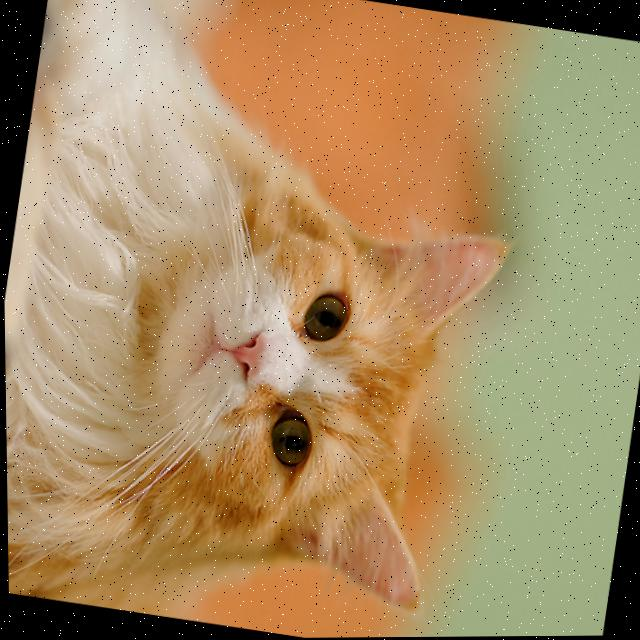Maine Coon: (0, 0, 560, 640)
